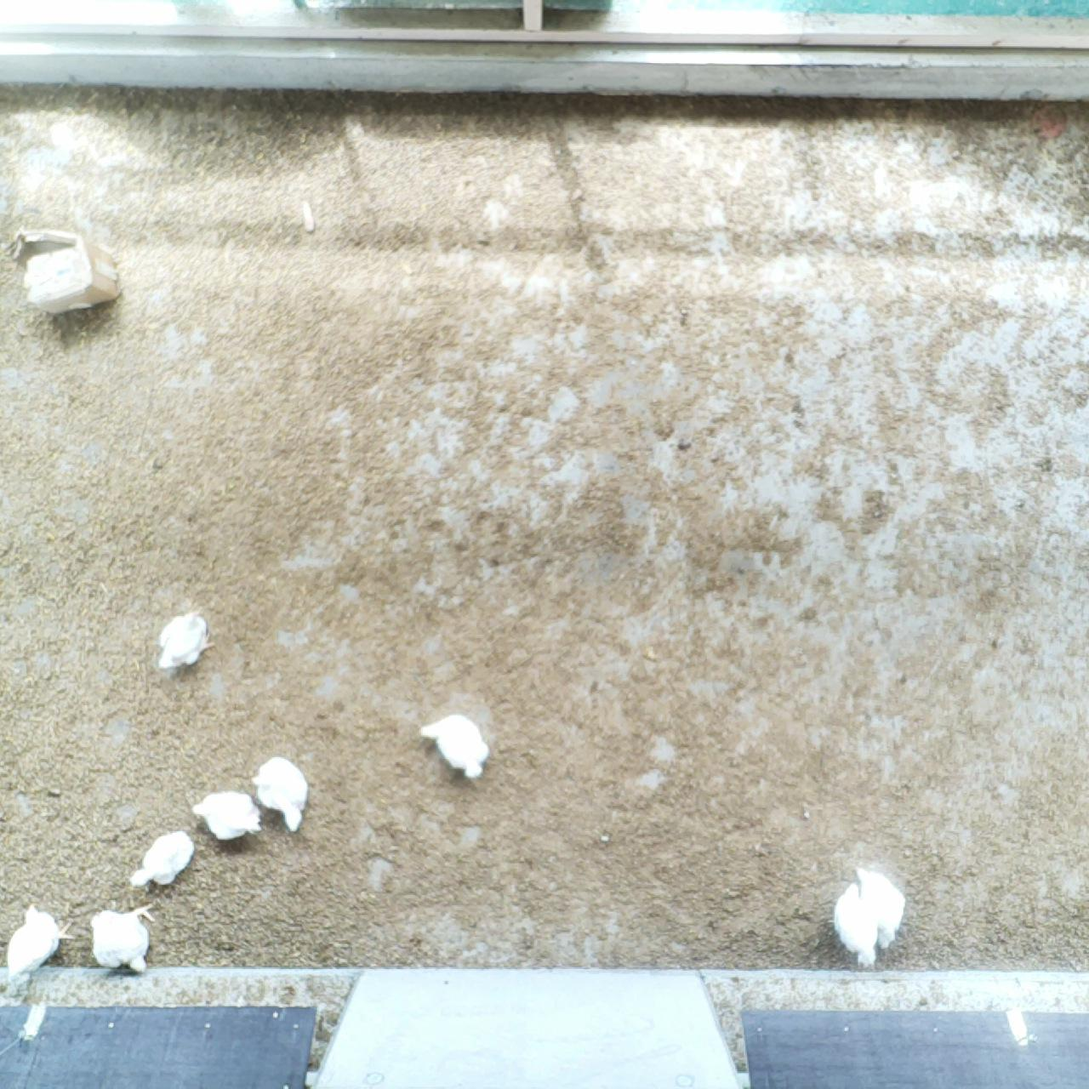chicken: (85, 897, 164, 977), (245, 747, 315, 837), (3, 902, 75, 989), (415, 706, 493, 786), (849, 859, 910, 961), (825, 876, 885, 972), (124, 822, 199, 892), (153, 604, 218, 679), (182, 784, 266, 842)
